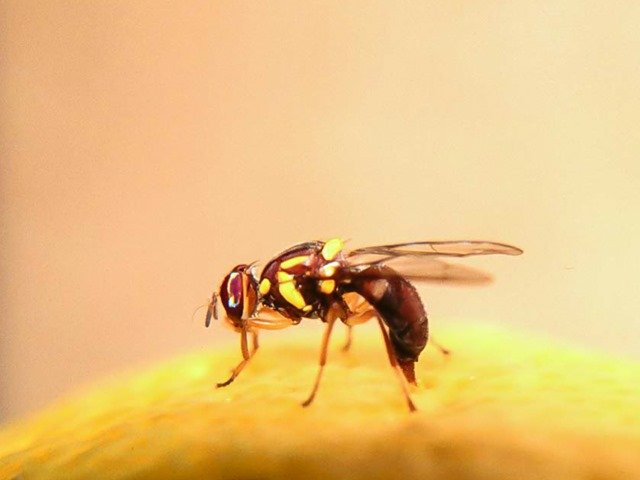Fruit fly: (177, 217, 505, 417)
